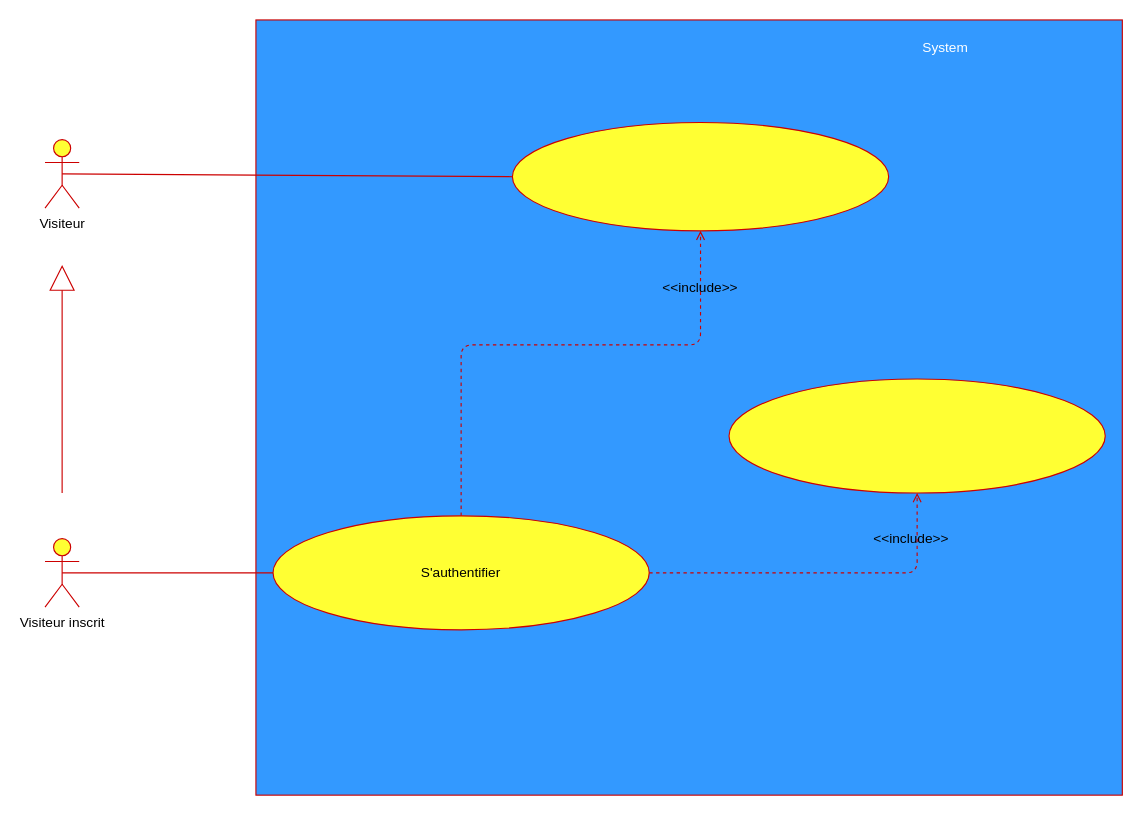
This 1142x815 diagram has some shape labels left out. Each missing label, with the centre of its shape:
"Réinitialiser mot de passe" belongs at (x=916, y=435).
"S'inscrire" belongs at (x=700, y=176).
